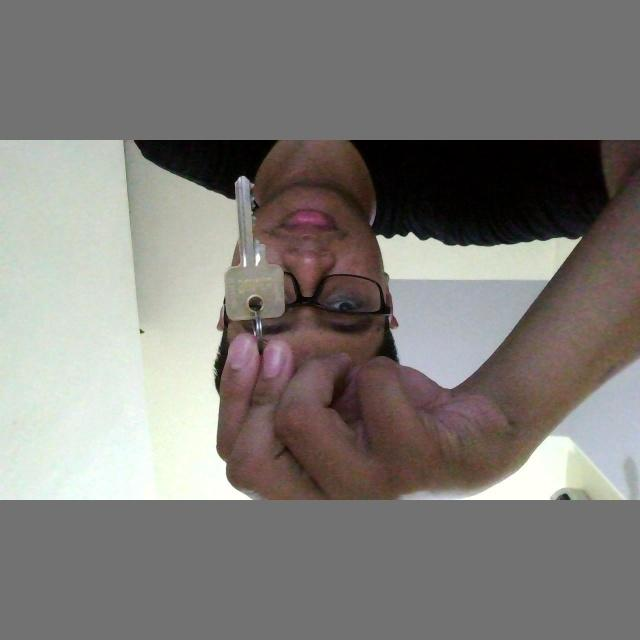Keys: (222, 174, 290, 326)
